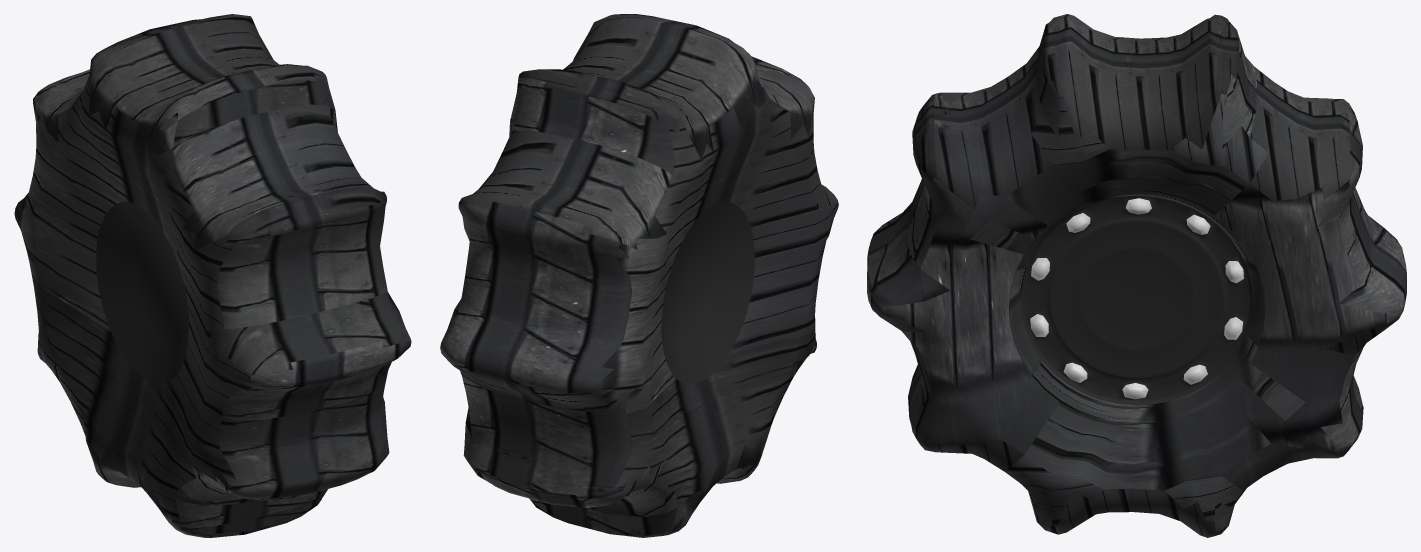
File: Pneu 3 Low Poly UV.fbx
The picture shows the model from 3 angles, left to right: view 1: azimuth 30°, elevation 25°; view 2: azimuth 150°, elevation 25°; view 3: azimuth 270°, elevation 25°; orthographic projection. The views are drawn at different scales.
Visible parts, largest first — view 1: Pneu_3; view 2: Pneu_3; view 3: Pneu_3.
Part boxes in pixels (left/top/right/bottom): Pneu_3: left=14, top=14, right=411, bottom=537; Pneu_3: left=440, top=14, right=838, bottom=537; Pneu_3: left=867, top=14, right=1406, bottom=537.
Size of the model in its own units: 0.5991 by 1.41 by 1.44.
3 materials, 1 textured.
